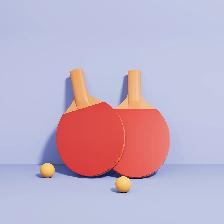YellowBall: (114, 176, 130, 192), (39, 162, 55, 177)
